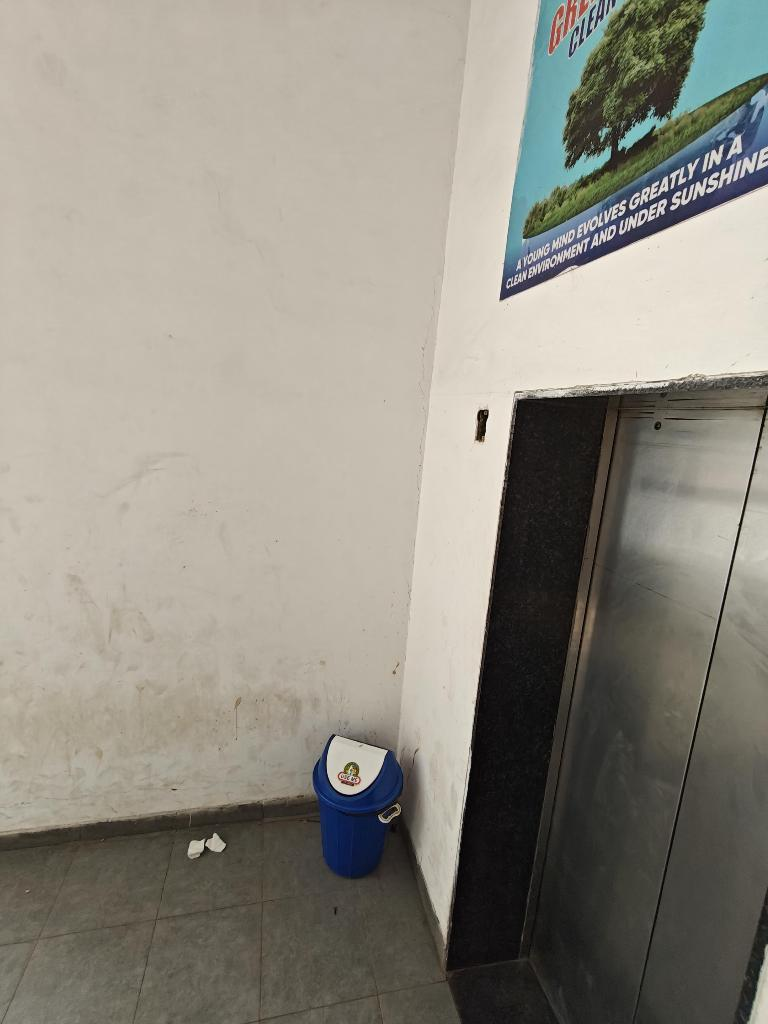dustbin: (301, 725, 413, 878)
